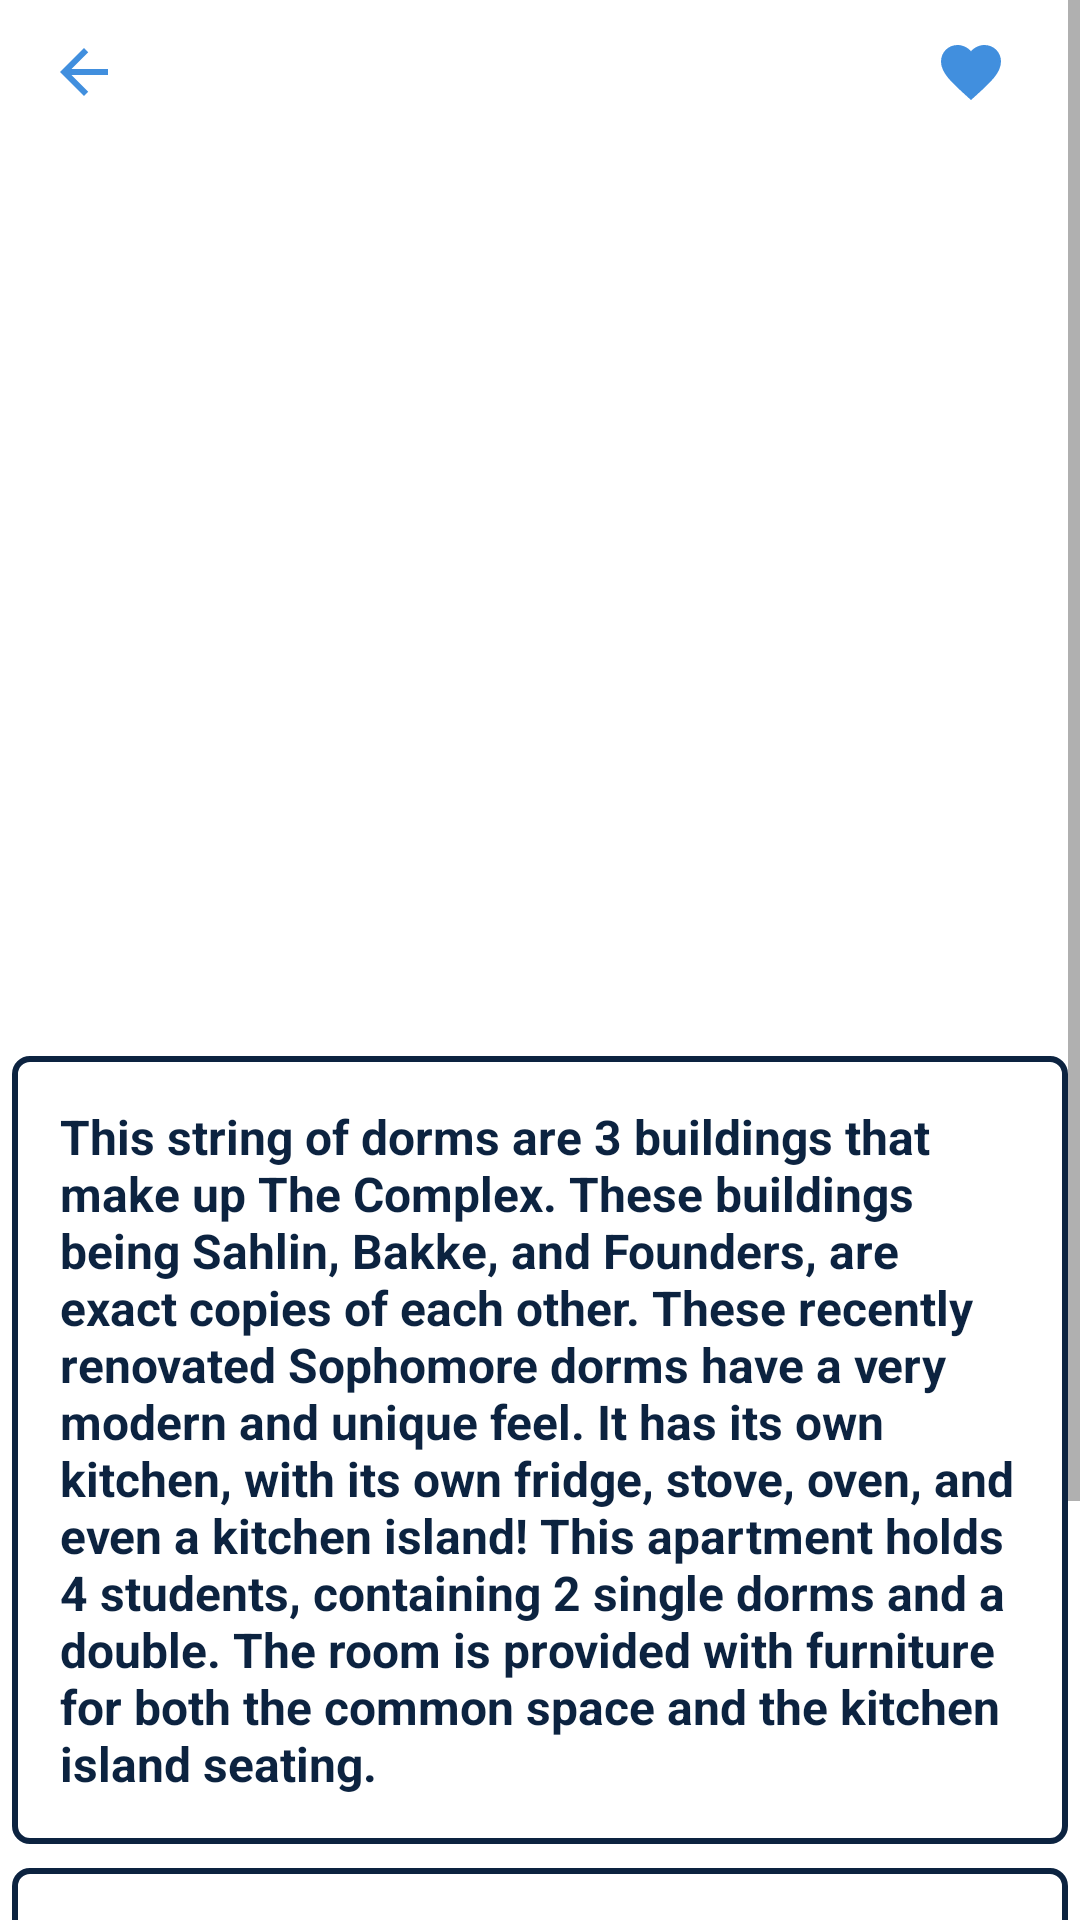

Screen size 1080 x 1920. Icon name, then its box in pixels as [left=x1, top=y1, right=x2, bottom=y2]:
Back: [left=60, top=48, right=108, bottom=96]
favorite: [left=941, top=45, right=1001, bottom=100]
